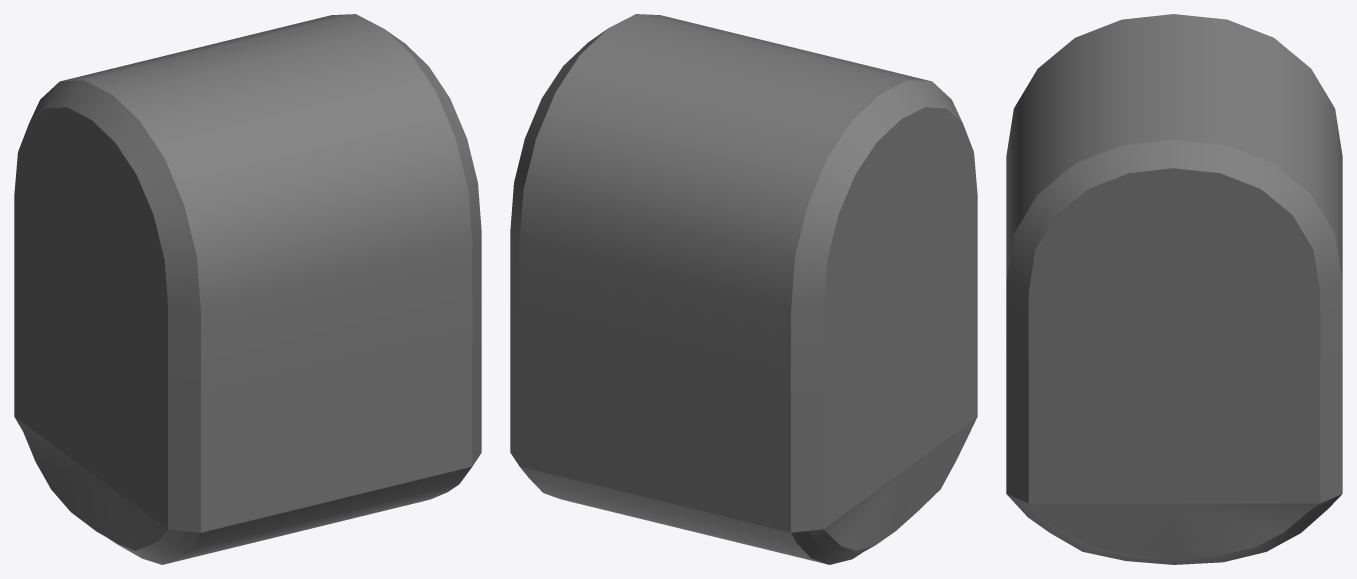
File: upleg.obj
The picture shows the model from 3 angles, left to right: view 1: azimuth 30°, elevation 25°; view 2: azimuth 150°, elevation 25°; view 3: azimuth 270°, elevation 25°; orthographic projection. The views are drawn at different scales.
Visible parts, largest first — view 1: Rig1; view 2: Rig1; view 3: Rig1.
Boxes of the visible parts, x1,y1,x2,y2 form: Rig1: (14, 14, 481, 564); Rig1: (510, 14, 977, 564); Rig1: (1006, 14, 1342, 564).
Bounding box in the file's own units: 0.9928 × 1.36 × 0.9727.
1 material, 1 textured.
